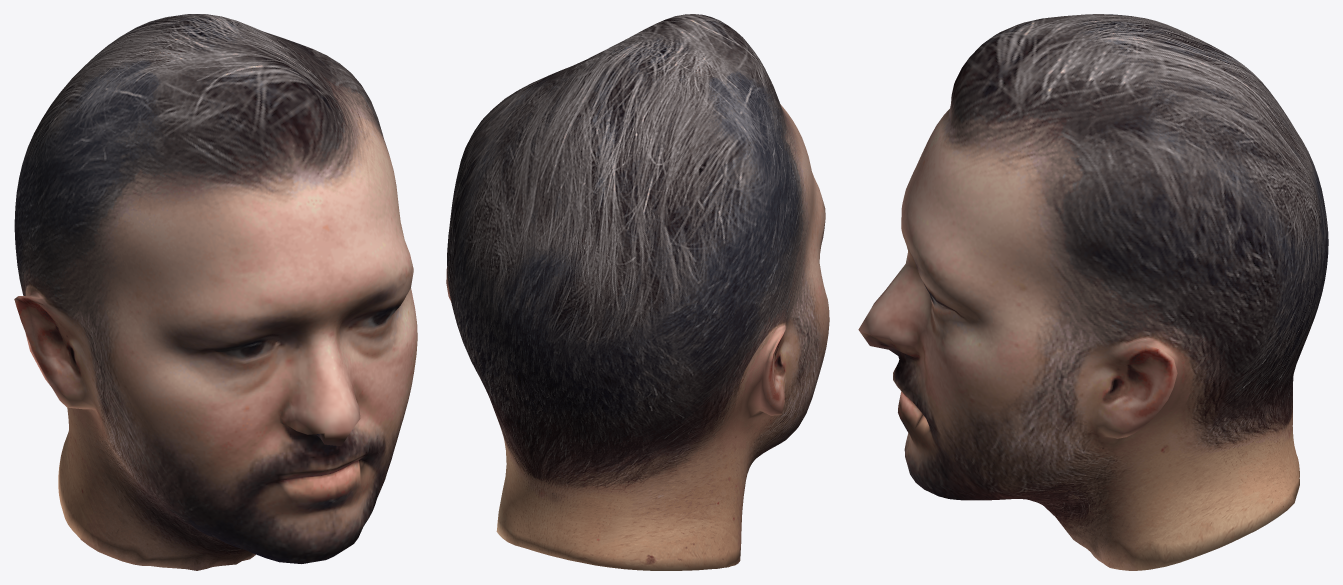
3 renders of one model, left to right at view 1: azimuth 30°, elevation 25°; view 2: azimuth 150°, elevation 25°; view 3: azimuth 270°, elevation 25°, orthographic. The views are drawn at different scales.
Parts seen in each view (by area): view 1: Will; view 2: Will; view 3: Will.
Part boxes in pixels (x1,y1,x2,y2): Will: [14, 14, 417, 570]; Will: [446, 14, 829, 570]; Will: [858, 14, 1328, 570].
Size of the model in its own units: 0.2527 by 0.3615 by 0.3064.
Materials: 1 (1 with a texture image).
